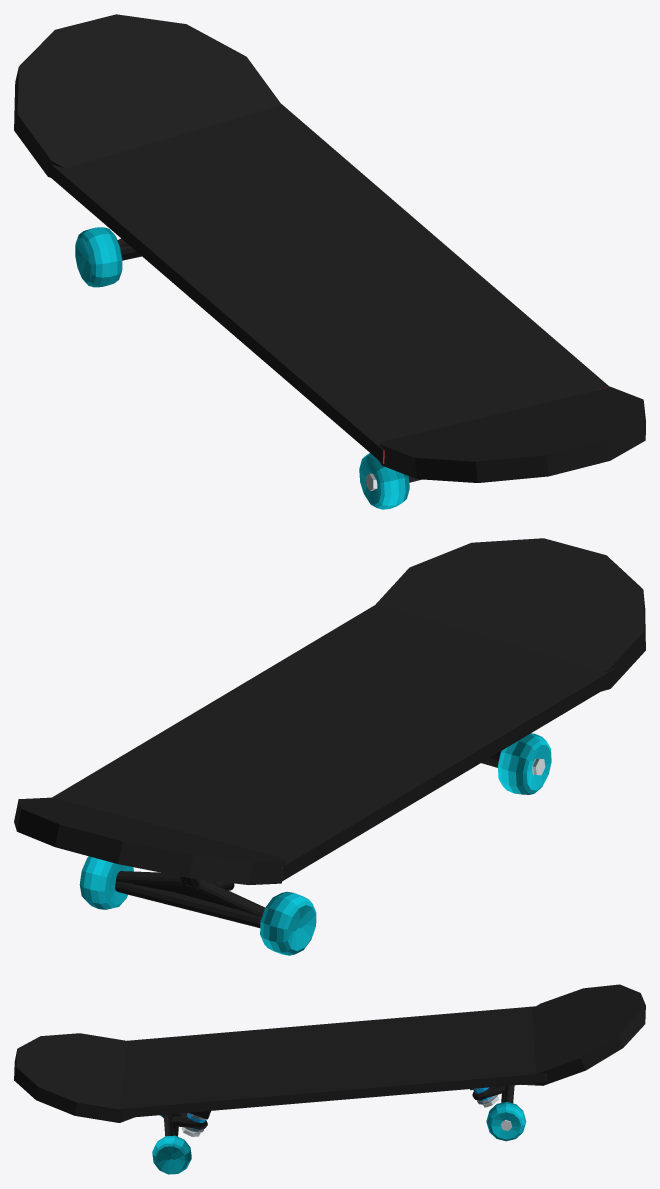
The model's file is skateboard.glb.
3 views of the same model, one above another, from view 1: azimuth 30°, elevation 25°; view 2: azimuth 150°, elevation 25°; view 3: azimuth 270°, elevation 25° (orthographic). The views are drawn at different scales.
Visible parts, largest first — view 1: Node; view 2: Node; view 3: Node.
Boxes of the visible parts, bbox=[...] form: Node: bbox=[14, 14, 645, 509]; Node: bbox=[14, 538, 645, 955]; Node: bbox=[14, 984, 645, 1174].
Size of the model in its own units: 0.3648 by 0.2971 by 1.25.
